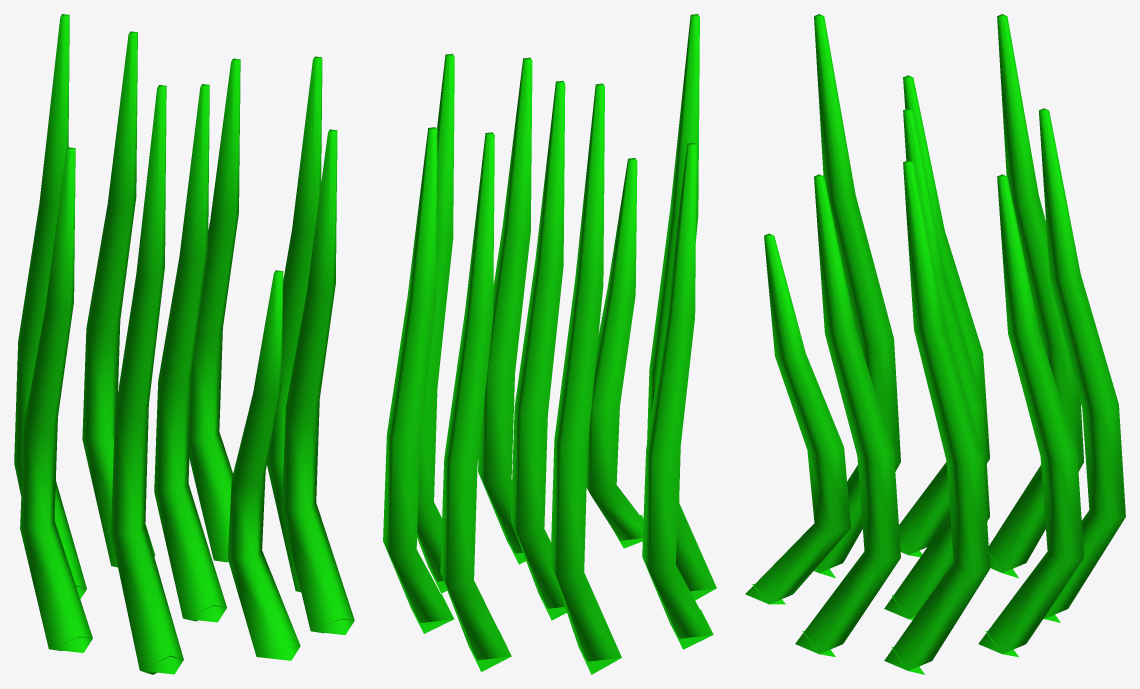
File: WavingGrass_2.fbx
3 views of the same model, side by side, from view 1: azimuth 30°, elevation 25°; view 2: azimuth 150°, elevation 25°; view 3: azimuth 270°, elevation 25° (orthographic). The views are drawn at different scales.
Parts seen in each view (by area): view 1: BezierCurve.001; view 2: BezierCurve.001; view 3: BezierCurve.001.
Part boxes in pixels (<box>): BezierCurve.001: <box>14,14,354,674</box>; BezierCurve.001: <box>383,14,716,674</box>; BezierCurve.001: <box>745,14,1125,674</box>.
Size of the model in its own units: 105 by 207 by 126.
